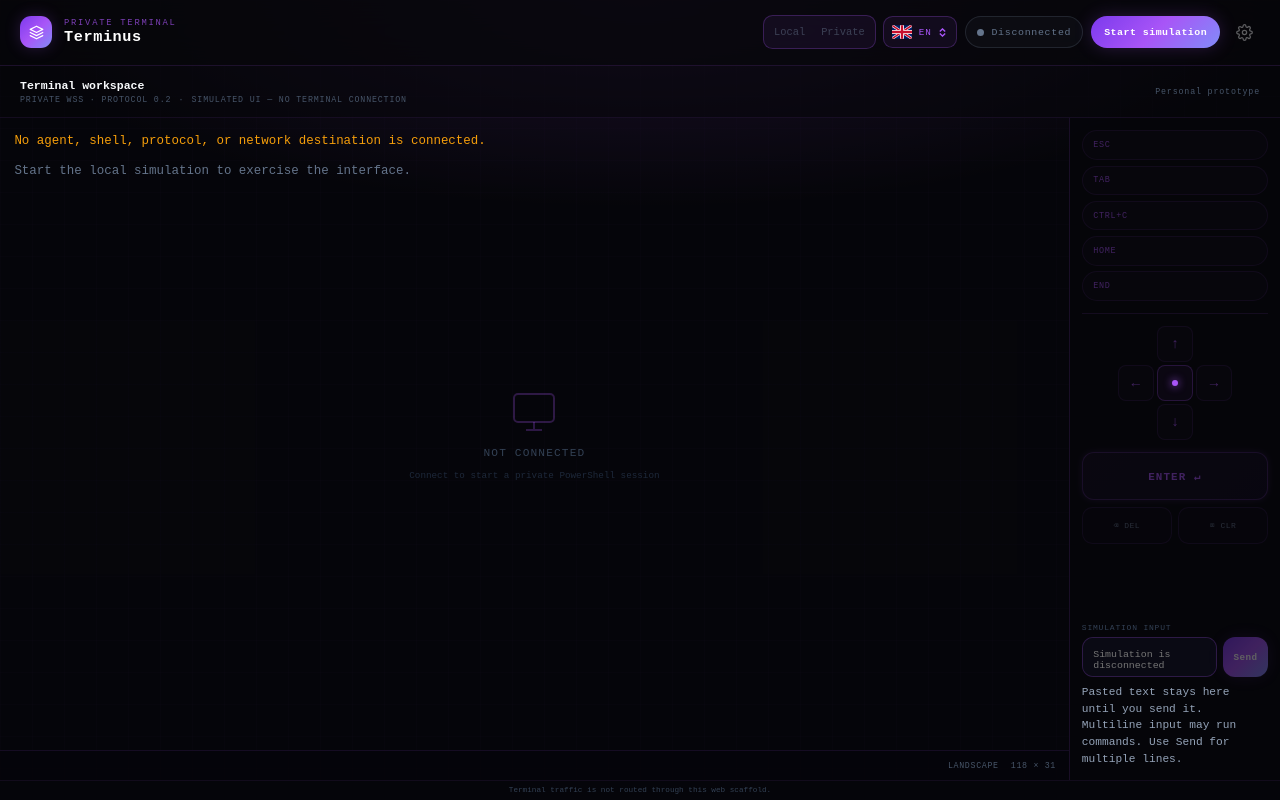
TerminalShell › switches the complete interface between English and Swedish
Click the button with aria-label "Switch to Swedish".
click(920, 32)  # box [883, 16, 957, 48]
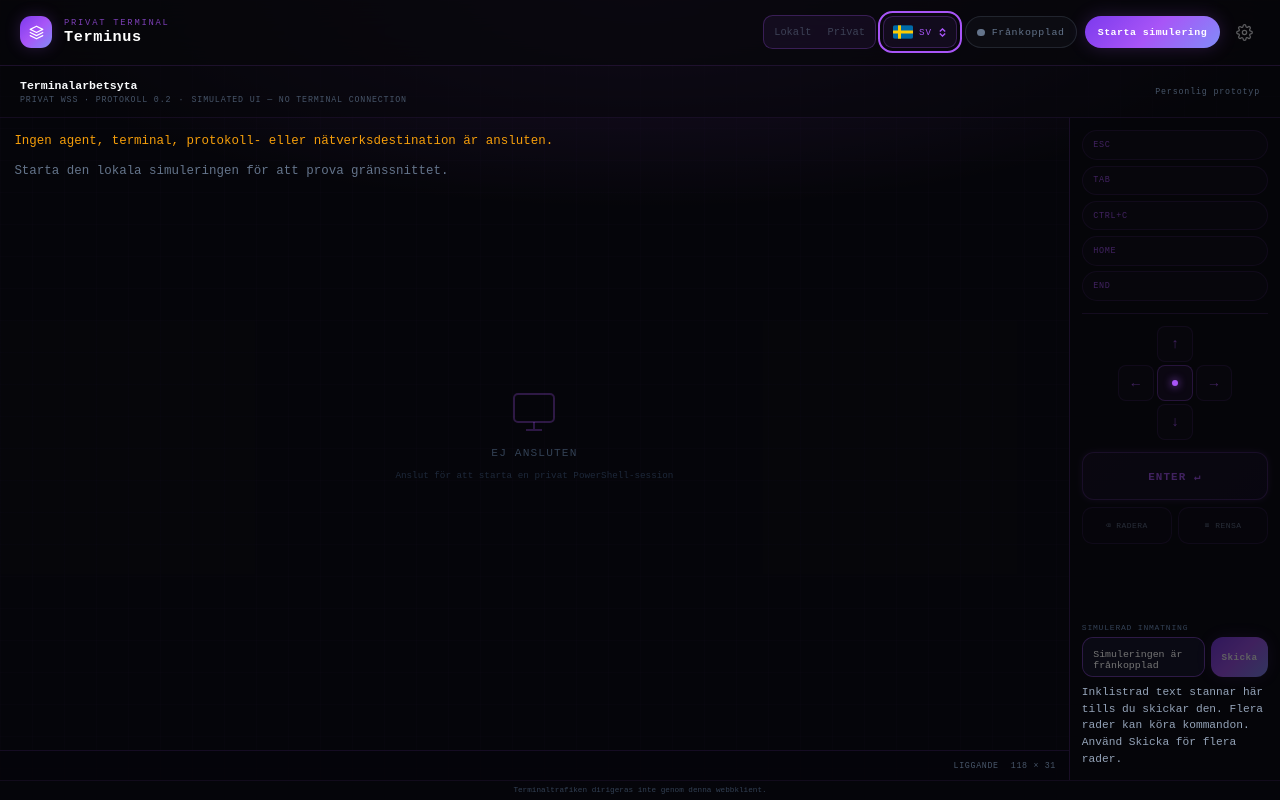
expect the heading "Terminalarbetsyta" is shown: met, box [20, 79, 138, 92]
expect the button "Starta simulering" is shown: met, box [1085, 16, 1220, 48]
expect the button with aria-label "Byt till engelska" is shown: met
Click the button with aria-label "Byt till engelska".
click(920, 32)  # box [883, 16, 957, 48]
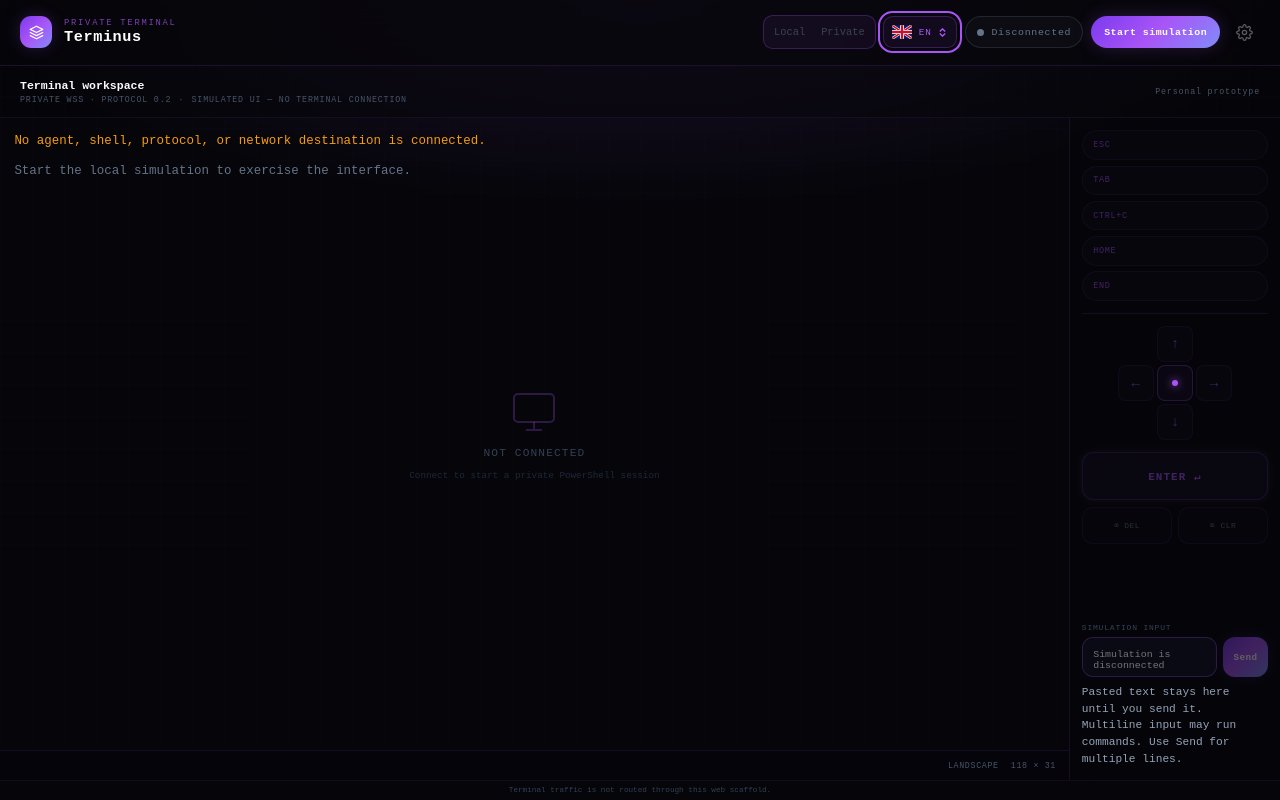
expect the heading "Terminal workspace" is shown: met, box [20, 79, 144, 92]
